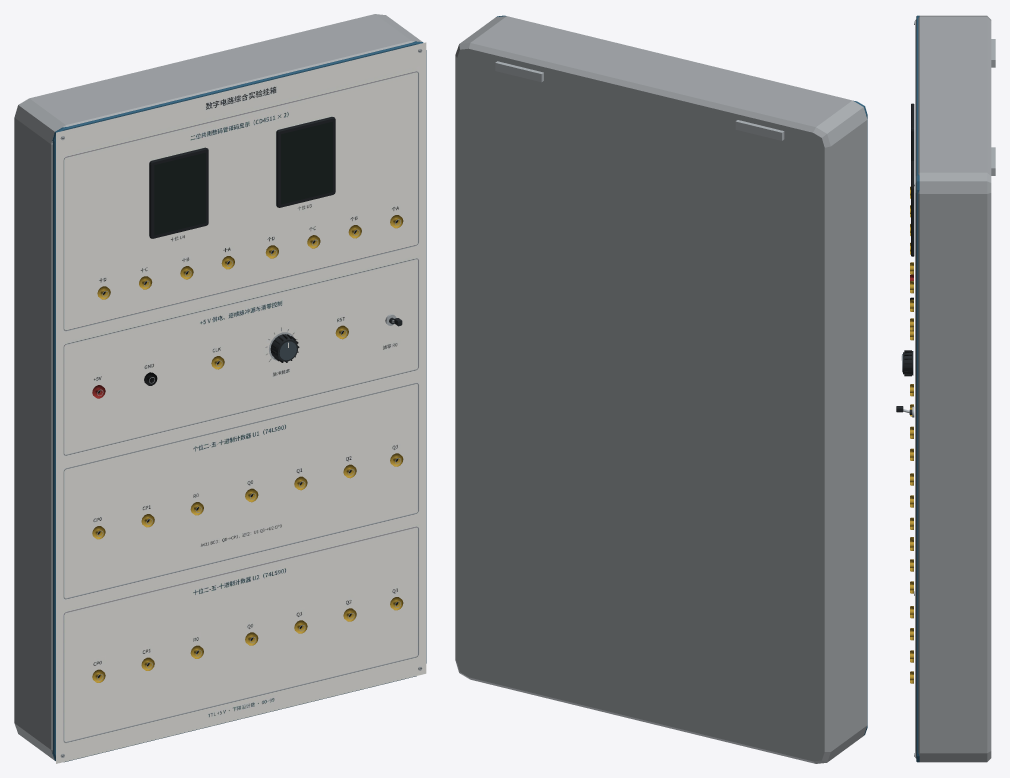
The model's file is module.glb.
3 renders of one model, left to right at view 1: azimuth 30°, elevation 25°; view 2: azimuth 150°, elevation 25°; view 3: azimuth 270°, elevation 25°, orthographic. The views are drawn at different scales.
Parts seen in each view (by area): view 1: PANEL_silkscreen, STATIC_paint, DISPLAY_DISP_ONES, DISPLAY_DISP_TENS, STATIC_metal; view 2: STATIC_paint, STATIC_metal; view 3: STATIC_paint, STATIC_metal, MOVING_CLK_RATE_paint.
Part boxes in pixels (x1=…): PANEL_silkscreen: x1=56, y1=42, x2=426, y2=763; STATIC_paint: x1=14, y1=14, x2=426, y2=762; DISPLAY_DISP_ONES: x1=281, y1=121, x2=332, y2=204; DISPLAY_DISP_TENS: x1=154, y1=152, x2=205, y2=235; STATIC_metal: x1=60, y1=48, x2=422, y2=757; STATIC_paint: x1=455, y1=15, x2=867, y2=763; STATIC_metal: x1=495, y1=61, x2=784, y2=140; STATIC_paint: x1=910, y1=15, x2=991, y2=762; STATIC_metal: x1=912, y1=21, x2=995, y2=756; MOVING_CLK_RATE_paint: x1=901, y1=350, x2=913, y2=376.
Size of the model in its own units: 0.29 by 0.47 by 0.0718.
7 materials, 1 textured.
